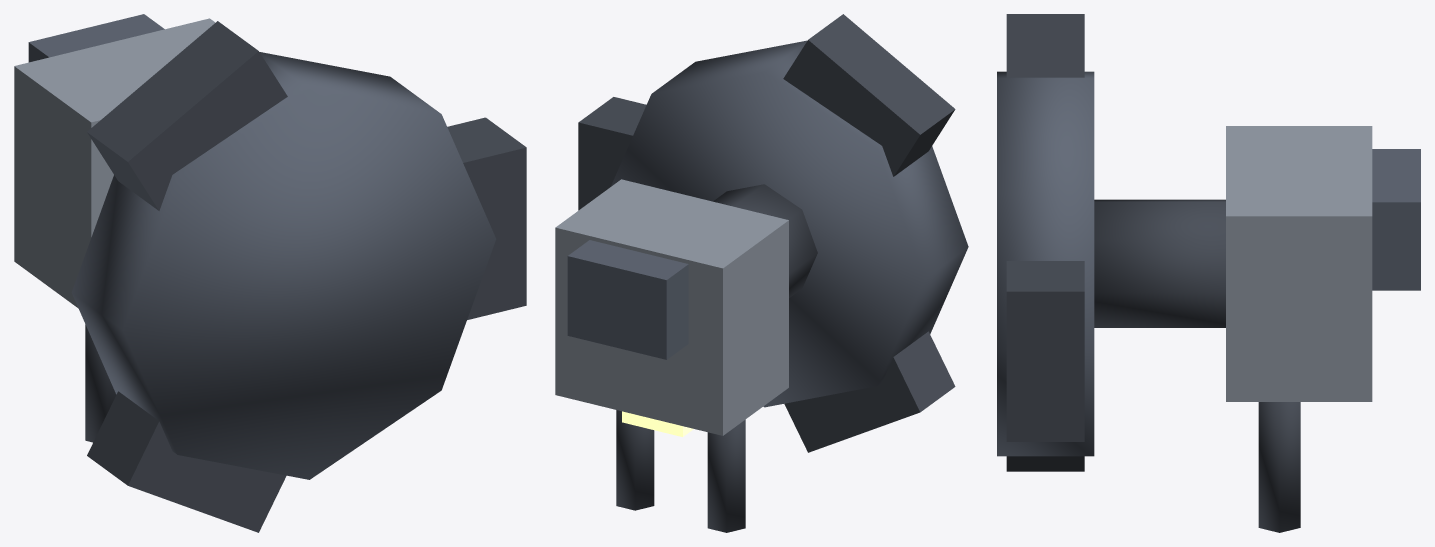
The model's file is dep_turret.glb.
The picture shows the model from 3 angles, left to right: view 1: azimuth 30°, elevation 25°; view 2: azimuth 150°, elevation 25°; view 3: azimuth 270°, elevation 25°; orthographic projection. The views are drawn at different scales.
Parts seen in each view (by area): view 1: dep_turret; view 2: dep_turret; view 3: dep_turret.
Part boxes in pixels (left/top/right/bottom): dep_turret: left=14, top=14, right=526, bottom=532; dep_turret: left=555, top=14, right=968, bottom=532; dep_turret: left=997, top=14, right=1420, bottom=532.
Size of the model in its own units: 0.92 by 1.05 by 0.87.
